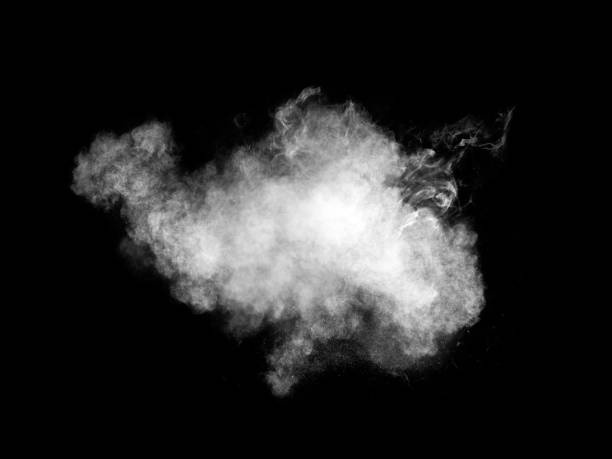smoke: (63, 87, 488, 383)
